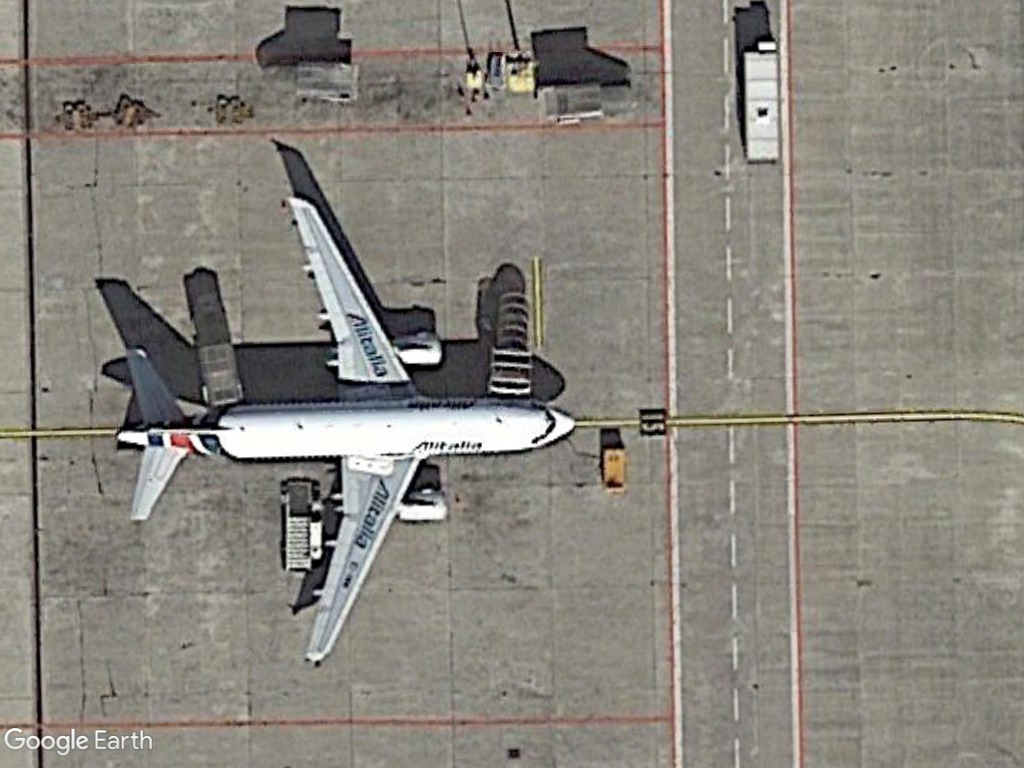airliner: (108, 188, 584, 669)
stairtruck: (279, 477, 321, 578)
